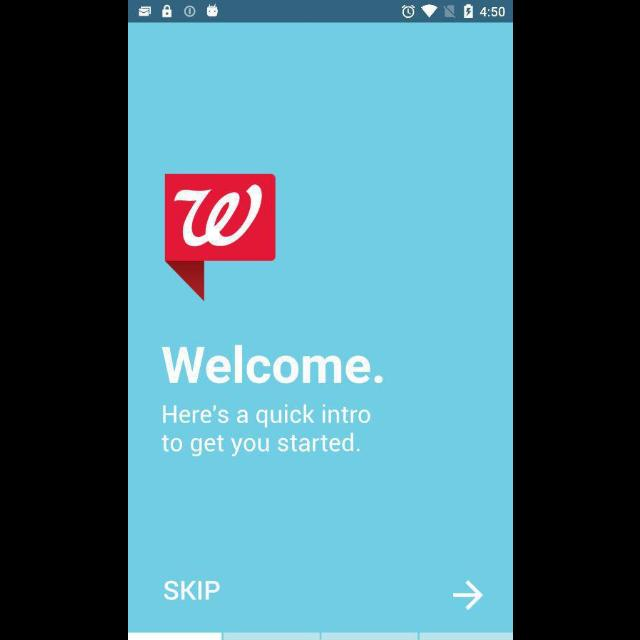icon: (452, 580, 482, 610)
image: (163, 175, 275, 302)
text: (160, 405, 370, 457), (162, 344, 382, 384), (164, 579, 220, 601)
uppertaskbar: (128, 1, 512, 23)
